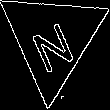N_NW: (26, 8, 79, 71)
